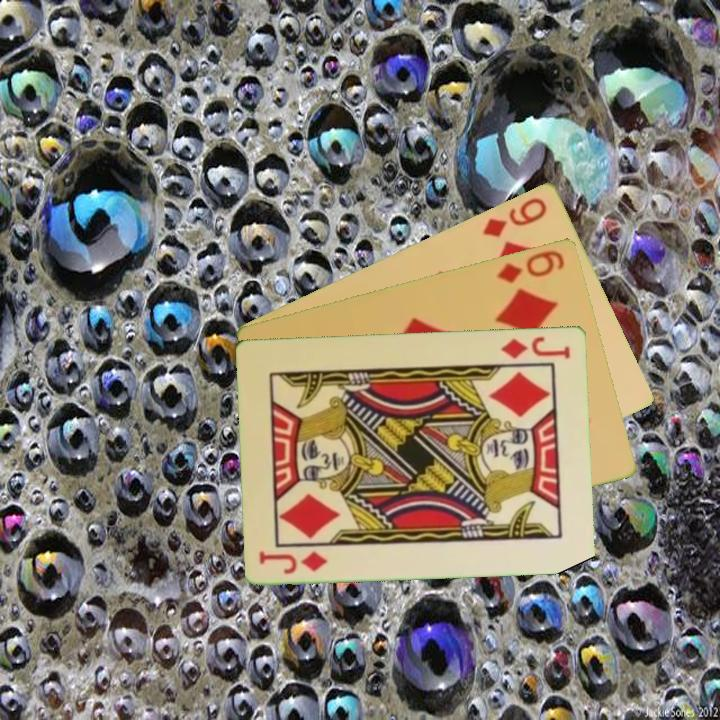6d: (493, 246, 568, 286)
9d: (479, 193, 551, 240)
Jd: (499, 332, 574, 361), (256, 547, 331, 576)
